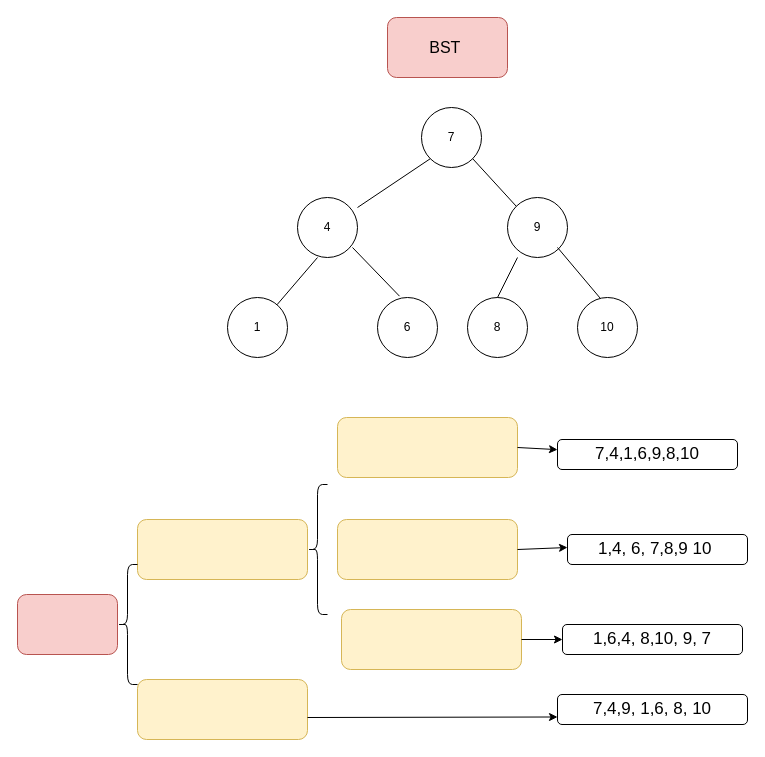
Image size: 765x757. Some labels were removed from this diagram. The centre of each missing label's shape, as x and y in pixels:
"Breadth Frist/ Level Traversals" belongs at (222,709).
"Depth First Traversals" belongs at (222,549).
"In-Order Left Root Right" belongs at (427,549).
"Post-Order Left Right Root" belongs at (431,639).
"Pre-Order Root Left Right" belongs at (427,447).
"Traversing Trees" belongs at (67,624).
